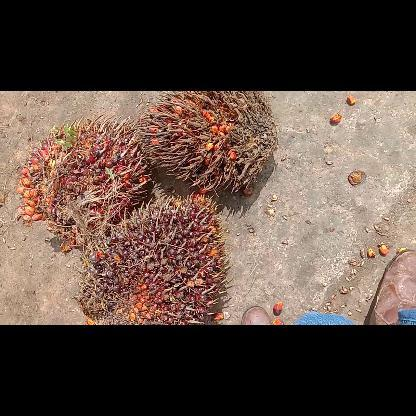Kurang masak: (78, 194, 226, 322)
TBS masak: (16, 118, 144, 252)
Terlalu masak: (136, 91, 278, 195)
